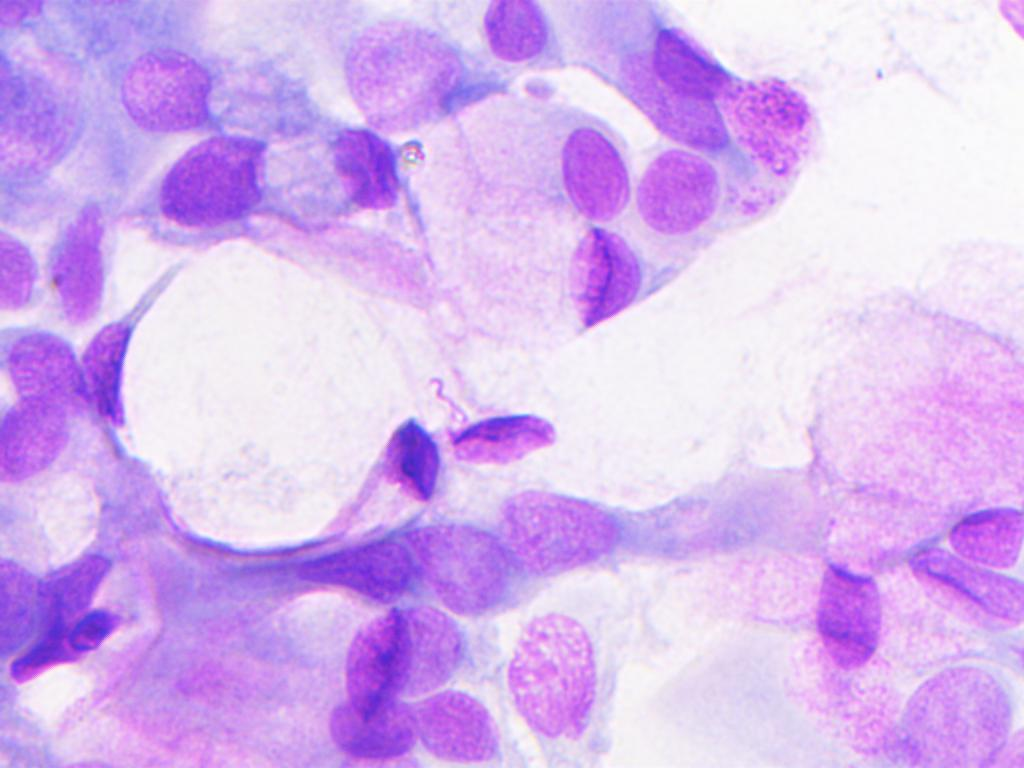epithelial: (497, 453, 632, 579), (507, 601, 621, 744), (331, 11, 456, 132), (897, 659, 1012, 768), (724, 69, 834, 171), (401, 523, 516, 617), (544, 118, 637, 225), (627, 145, 729, 237), (46, 203, 112, 329), (1, 328, 90, 409), (415, 688, 504, 764), (332, 692, 416, 768), (0, 394, 66, 489), (0, 552, 59, 657), (481, 0, 567, 67), (2, 216, 41, 317)
goblet_cell: (406, 219, 639, 348), (138, 133, 374, 234), (114, 42, 319, 147), (267, 596, 459, 698), (328, 121, 506, 216), (79, 320, 243, 422), (288, 414, 446, 517), (904, 546, 1021, 682), (805, 491, 893, 669), (453, 344, 563, 468), (942, 414, 1024, 568), (654, 0, 744, 106)
